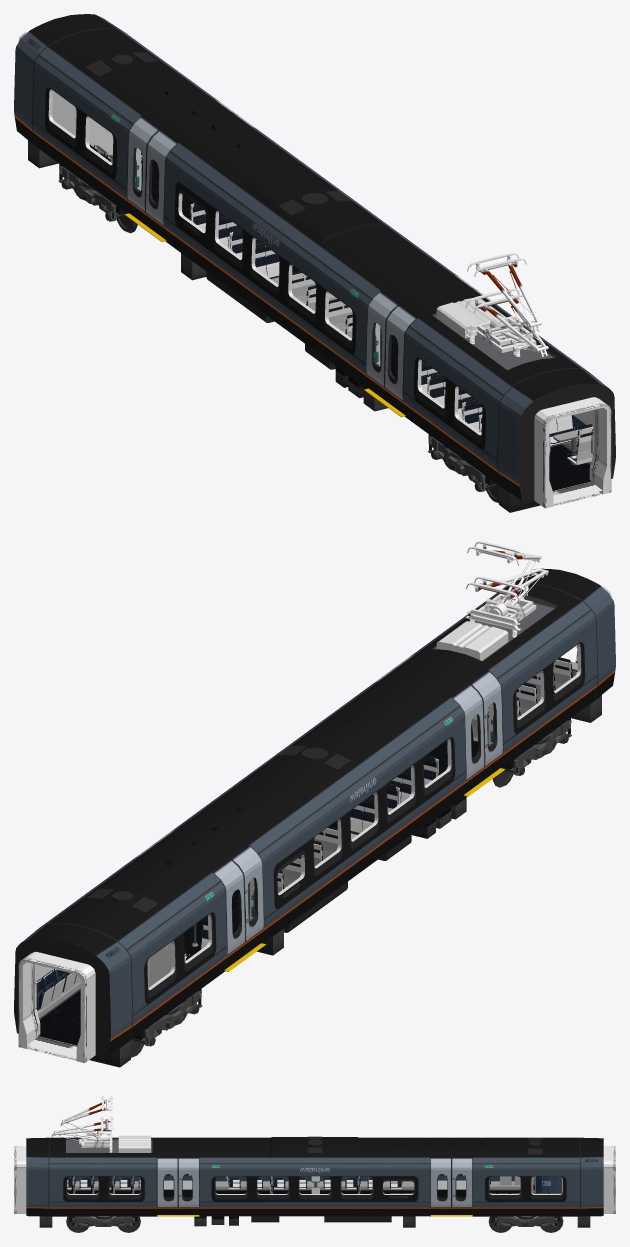
The model's file is wmt_class730_m.obj.
3 views of the same model, one above another, from view 1: azimuth 30°, elevation 25°; view 2: azimuth 150°, elevation 25°; view 3: azimuth 270°, elevation 25° (orthographic). The views are drawn at different scales.
Visible parts, largest first — view 1: m_side, m_jibung, m_oscarchair, m_mak, m_aircon, m_habu, m_door_RB, m_door_RF, m_dt71, m_backout, m_panto6m, m_floor (+3 smaller); view 2: m_side, m_jibung, m_mak, m_oscarchair, m_aircon, m_habu, m_floor, m_door_RB, m_door_RF, m_dt71, m_backout, m_panto6m (+3 smaller); view 3: m_side, m_jibung, m_heater, m_dt71, m_mak, m_habu, m_door_LB, m_door_LF, m_oscarchair, m_floor, m_aircon, m_panto6m (+5 smaller).
Part boxes in pixels (<box>): m_side: <box>14,15,615,500</box>; m_jibung: <box>29,14,600,400</box>; m_oscarchair: <box>218,214,593,465</box>; m_mak: <box>18,32,611,508</box>; m_aircon: <box>86,52,506,337</box>; m_habu: <box>28,140,540,512</box>; m_door_RB: <box>126,130,386,401</box>; m_door_RF: <box>145,144,405,414</box>; m_dt71: <box>58,164,498,503</box>; m_backout: <box>522,383,612,499</box>; m_panto6m: <box>466,253,541,355</box>; m_floor: <box>141,152,591,490</box>; m_side: <box>14,579,615,1055</box>; m_jibung: <box>29,568,600,954</box>; m_mak: <box>18,586,611,1062</box>; m_oscarchair: <box>281,646,577,888</box>; m_aircon: <box>86,621,508,913</box>; m_habu: <box>89,695,601,1067</box>; m_floor: <box>38,723,488,1045</box>; m_door_RB: <box>224,698,484,969</box>; m_door_RF: <box>243,685,503,955</box>; m_dt71: <box>131,718,571,1057</box>; m_backout: <box>17,938,107,1054</box>; m_panto6m: <box>466,541,541,636</box>; m_side: <box>26,1156,603,1216</box>; m_jibung: <box>26,1137,603,1157</box>; m_heater: <box>67,1176,520,1190</box>; m_dt71: <box>66,1216,563,1232</box>; m_mak: <box>14,1146,615,1213</box>; m_habu: <box>27,1215,602,1227</box>; m_door_LB: <box>178,1167,473,1214</box>; m_door_LF: <box>157,1167,451,1214</box>; m_oscarchair: <box>67,1176,372,1193</box>; m_floor: <box>67,1189,520,1197</box>; m_aircon: <box>118,1135,542,1154</box>; m_panto6m: <box>60,1096,112,1152</box>.
Size of the model in its own units: 2.88 by 5.74 by 25.23.
29 materials, 29 textured.
